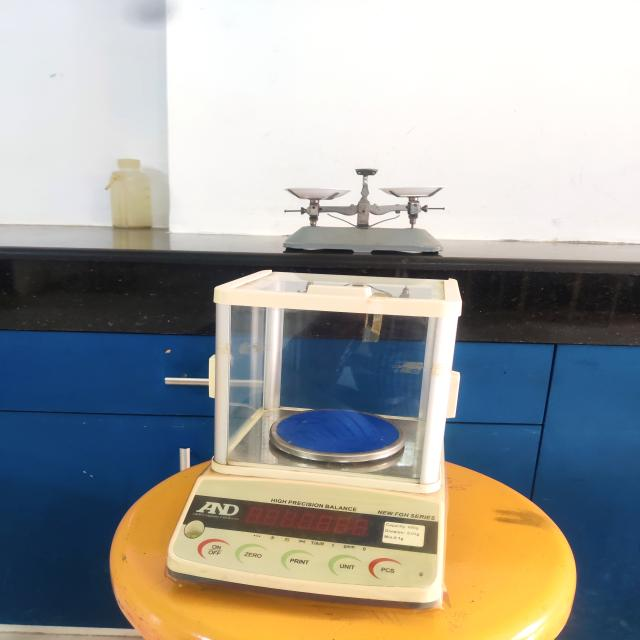Mechanical_Balance_Scale: (271, 149, 463, 277)
Precision_Weight_Scale: (153, 258, 492, 626)
